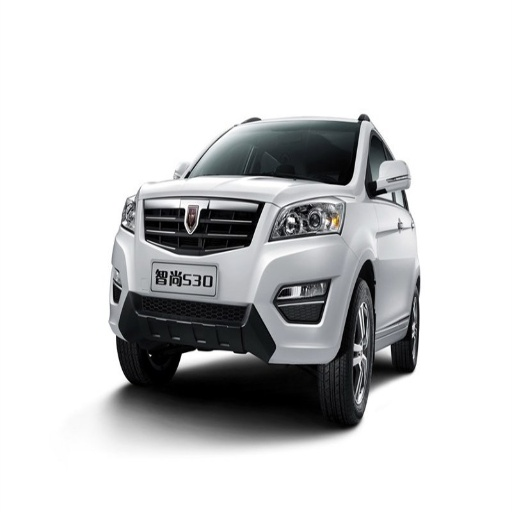front_bumper: (116, 196, 356, 362)
front_glass: (186, 124, 360, 182)
front_left_door: (366, 128, 408, 325)
